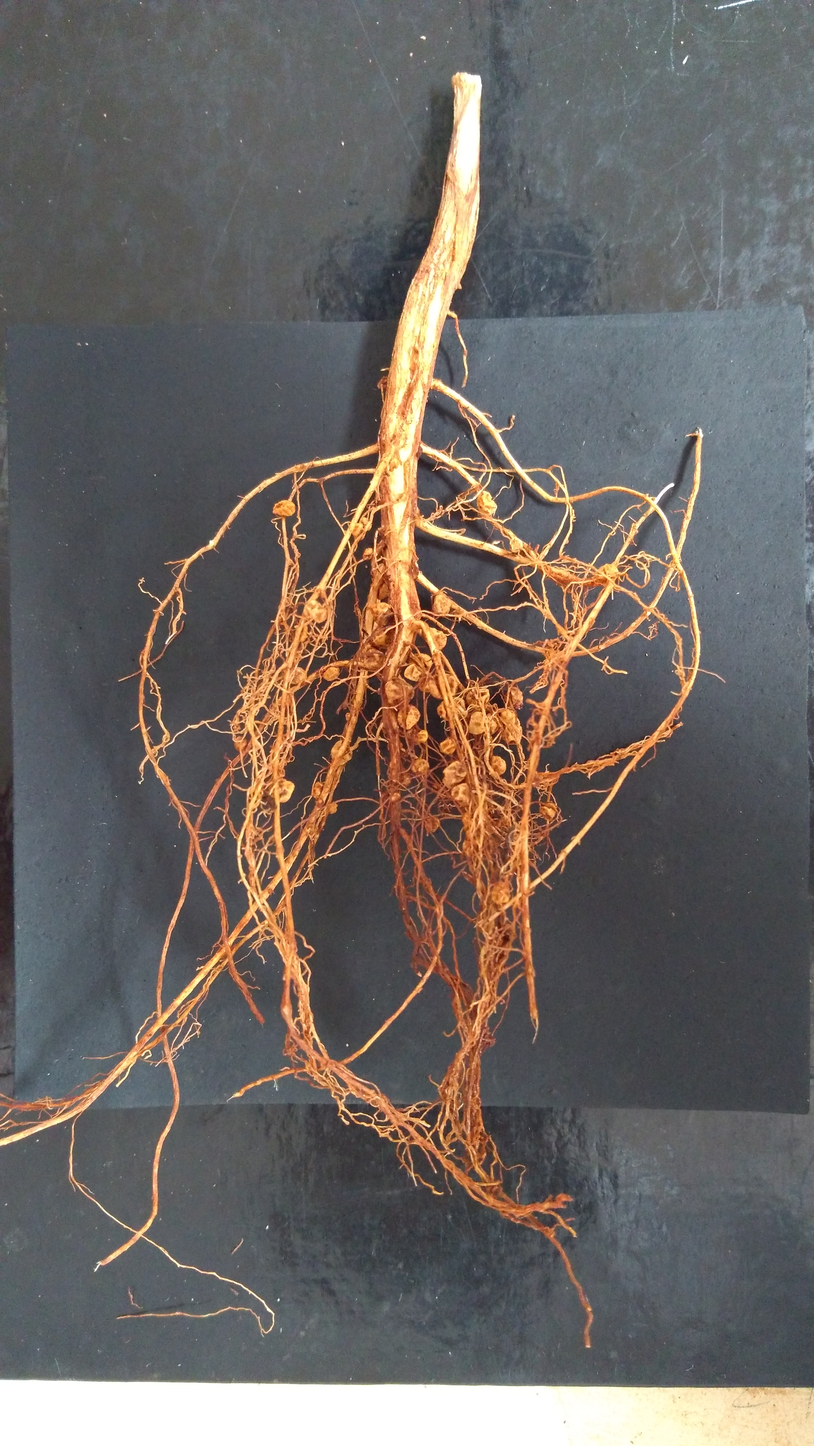nodule: (498, 709, 522, 745), (493, 922, 518, 956), (428, 673, 457, 699), (442, 761, 467, 789), (437, 697, 466, 721), (268, 779, 295, 803), (397, 704, 420, 730), (421, 627, 447, 649), (330, 740, 352, 765), (304, 600, 327, 623), (466, 688, 489, 711), (477, 490, 497, 516), (371, 602, 393, 625), (468, 711, 490, 734), (364, 648, 385, 670), (503, 686, 523, 709), (409, 653, 432, 672), (385, 681, 404, 704), (451, 783, 470, 806), (432, 593, 451, 615), (595, 564, 619, 581), (492, 881, 510, 903), (397, 679, 414, 702), (272, 500, 296, 516), (491, 755, 506, 776), (290, 667, 307, 685), (539, 803, 556, 821), (404, 664, 421, 681), (487, 712, 499, 735), (418, 675, 434, 692), (411, 759, 429, 774), (440, 738, 456, 754), (400, 765, 411, 787), (351, 523, 365, 540), (322, 667, 339, 681), (425, 816, 439, 832), (406, 729, 420, 745), (377, 583, 390, 600), (372, 563, 385, 579), (295, 625, 307, 642), (312, 781, 323, 799), (462, 812, 473, 830), (360, 639, 374, 653), (234, 736, 247, 750), (376, 376, 389, 390), (510, 537, 522, 552), (359, 518, 372, 530), (290, 642, 304, 653), (387, 741, 402, 751), (463, 841, 473, 855), (417, 730, 428, 742), (363, 548, 374, 559), (329, 802, 338, 814), (390, 792, 400, 801), (533, 774, 543, 783), (293, 655, 301, 666), (501, 779, 508, 791), (466, 829, 473, 840), (497, 806, 504, 815), (320, 591, 326, 598), (346, 713, 351, 721), (458, 284, 462, 289)
